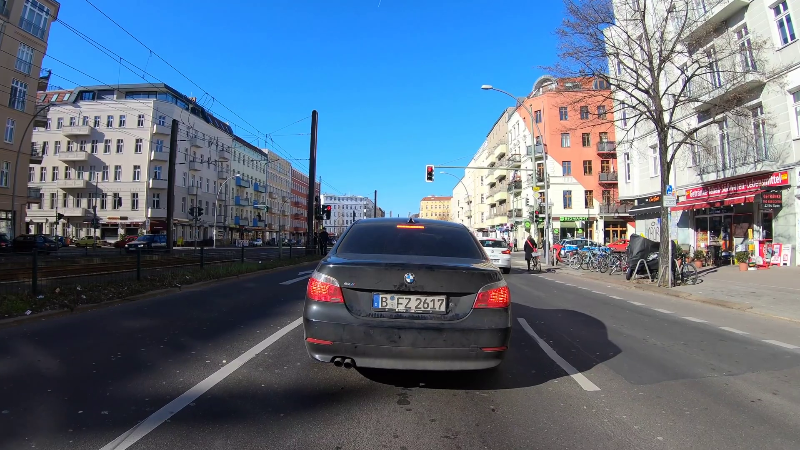Plate: (371, 293, 448, 312)
